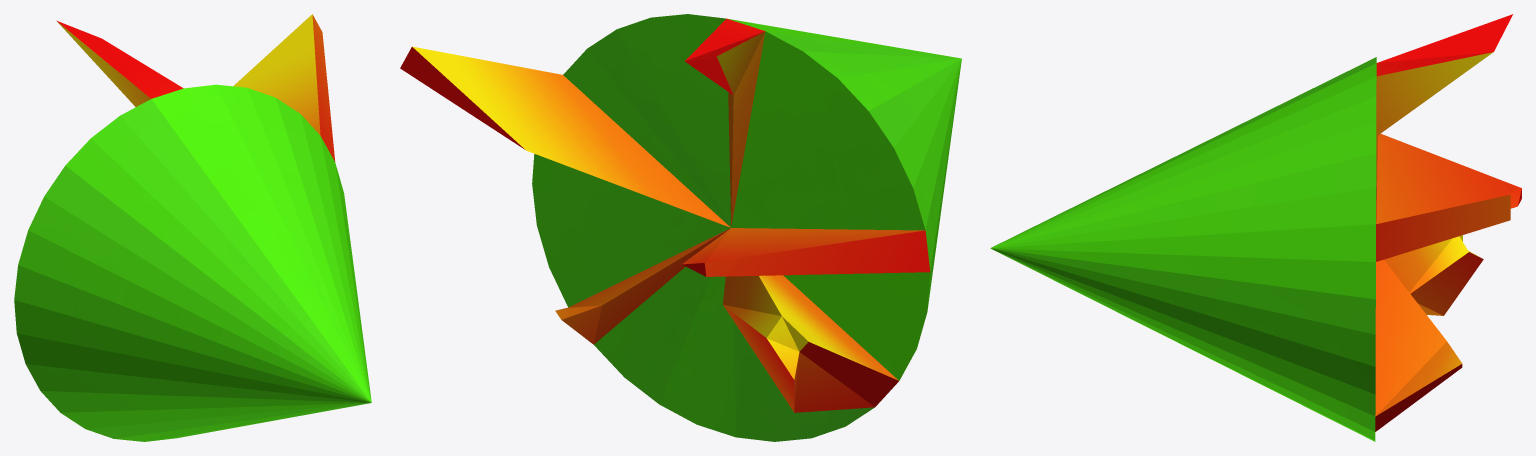
File: booster.obj
3 views of the same model, side by side, from view 1: azimuth 30°, elevation 25°; view 2: azimuth 150°, elevation 25°; view 3: azimuth 270°, elevation 25° (orthographic). The views are drawn at different scales.
Visible parts, largest first — view 1: Cone; view 2: Cone; view 3: Cone.
Boxes of the visible parts, box(x1,y1,x2,y2) form: Cone: box(14, 14, 371, 441); Cone: box(400, 14, 961, 441); Cone: box(990, 14, 1521, 441).
Size of the model in its own units: 2.26 by 2.19 by 2.76.
